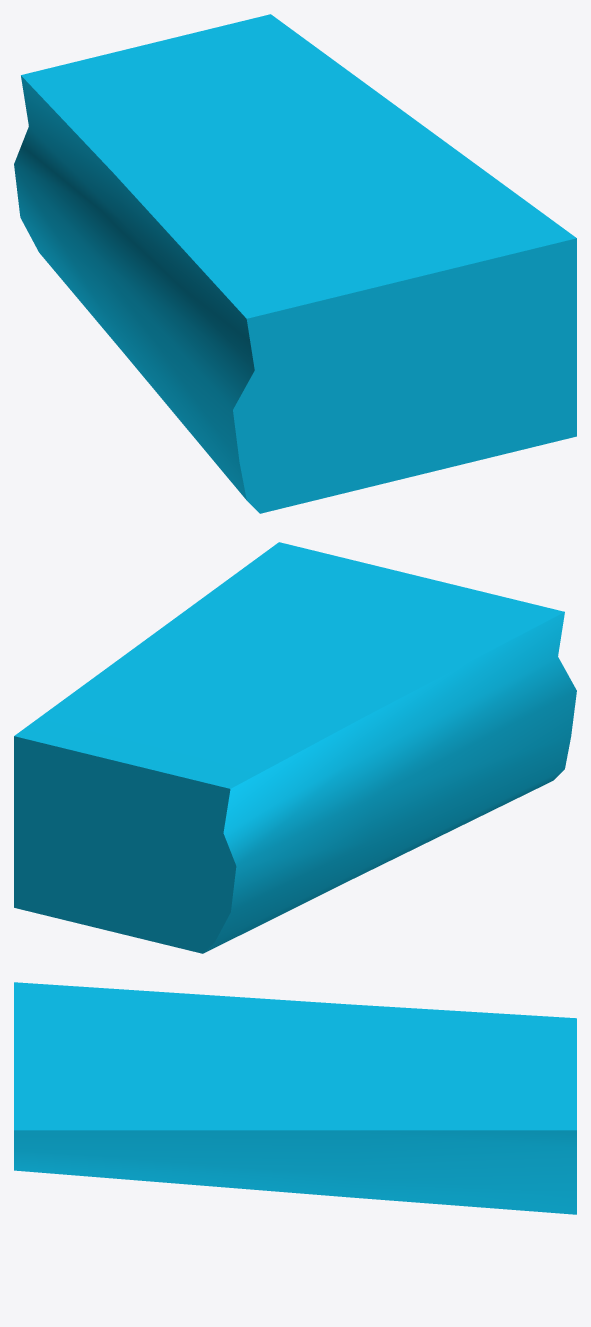
Rendered from woda_1_5_2.FBX.
3 renders of one model, top to bottom at view 1: azimuth 30°, elevation 25°; view 2: azimuth 150°, elevation 25°; view 3: azimuth 270°, elevation 25°, orthographic. The views are drawn at different scales.
Parts seen in each view (by area): view 1: woda_1_5_2; view 2: woda_1_5_2; view 3: woda_1_5_2.
Boxes of the visible parts, box(x1,y1,x2,y2) form: woda_1_5_2: box(14, 14, 576, 513); woda_1_5_2: box(14, 542, 576, 953); woda_1_5_2: box(14, 982, 576, 1214).
Size of the model in its own units: 9.01 by 4.96 by 13.89.
